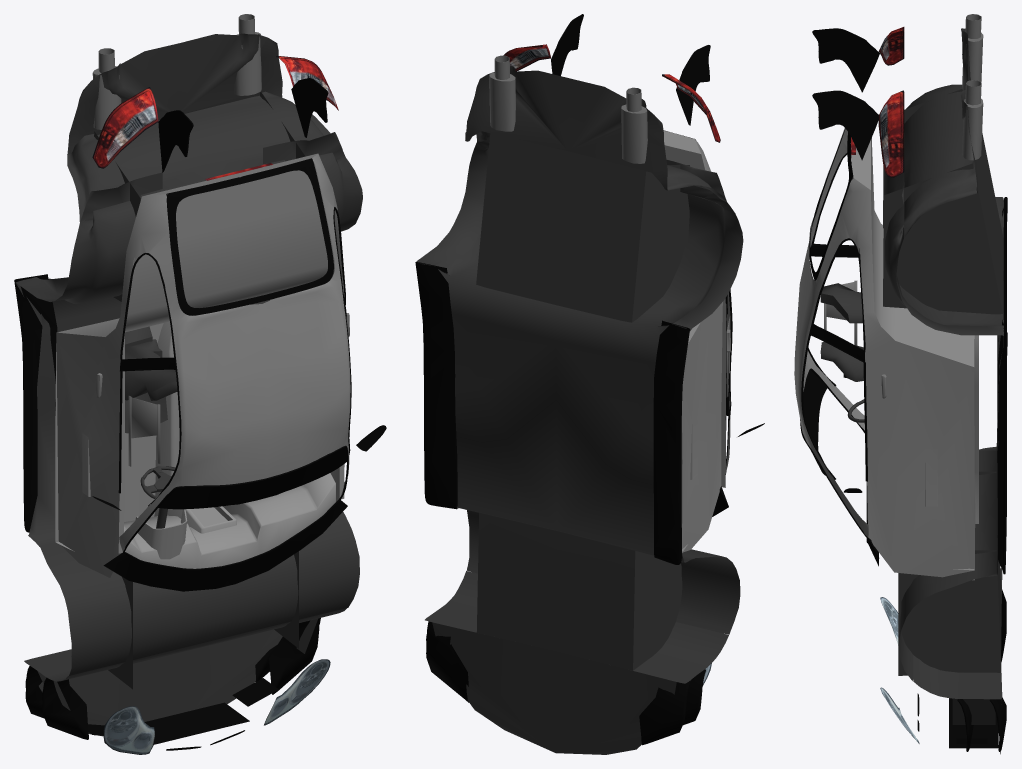
File: details.obj
3 views of the same model, side by side, from view 1: azimuth 30°, elevation 25°; view 2: azimuth 150°, elevation 25°; view 3: azimuth 270°, elevation 25° (orthographic). The views are drawn at different scales.
Visible parts, largest first — view 1: Exhaust, 8_-_Default, 2_-_Default, 13_-_Default, 12_-_Default, Opaque-Plastic; view 2: 8_-_Default, 2_-_Default, Exhaust, 12_-_Default, 13_-_Default; view 3: 8_-_Default, Exhaust, 2_-_Default, 13_-_Default, 12_-_Default, Opaque-Plastic.
Boxes of the visible parts, box(x1,y1,x2,y2) form: Exhaust: box(55, 153, 350, 577); 8_-_Default: box(15, 33, 362, 736); 2_-_Default: box(14, 78, 386, 750); 13_-_Default: box(92, 55, 338, 754); 12_-_Default: box(92, 14, 261, 129); Opaque-Plastic: box(96, 313, 349, 466); 8_-_Default: box(416, 65, 743, 754); 2_-_Default: box(415, 14, 764, 745); Exhaust: box(457, 131, 730, 552); 12_-_Default: box(489, 55, 647, 163); 13_-_Default: box(503, 44, 720, 685); 8_-_Default: box(820, 28, 1003, 754); Exhaust: box(794, 128, 978, 580); 2_-_Default: box(800, 28, 1007, 751); 13_-_Default: box(851, 27, 919, 743); 12_-_Default: box(962, 14, 983, 160); Opaque-Plastic: box(824, 280, 886, 398).
Bounding box in the file's own units: 3.96 × 9.19 × 2.58.
Materials: 6 (1 with a texture image).
